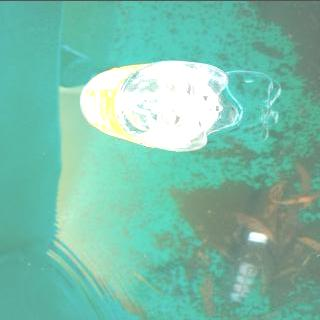bottle: (76, 56, 245, 153)
